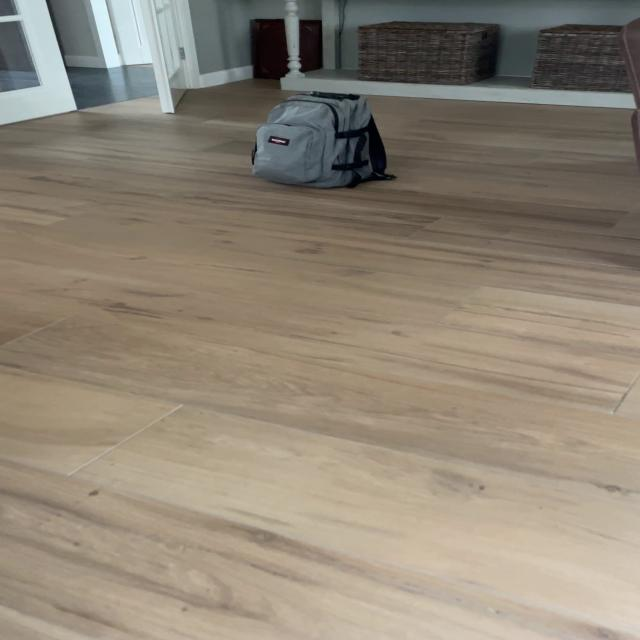backpack: (252, 87, 392, 191)
